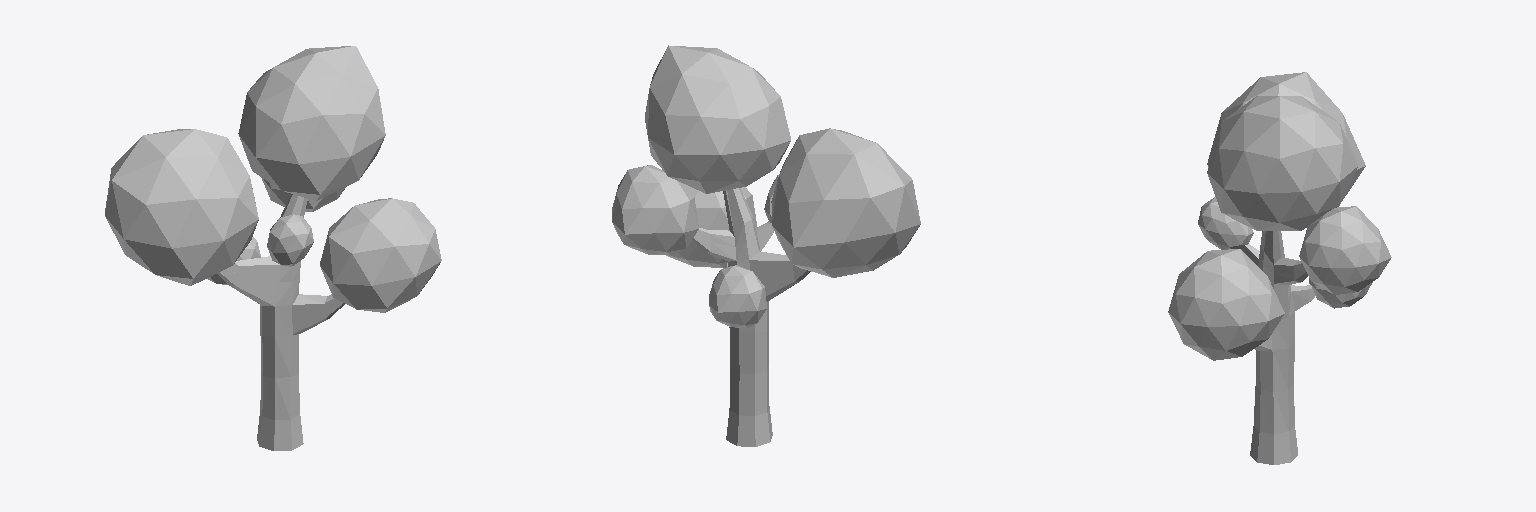
Rendered from basic_tree.obj.
3 views of the same model, side by side, from view 1: azimuth 30°, elevation 25°; view 2: azimuth 150°, elevation 25°; view 3: azimuth 270°, elevation 25° (orthographic).
Parts seen in each view (by area): view 1: Cylinder_Cylinder.001; view 2: Cylinder_Cylinder.001; view 3: Cylinder_Cylinder.001.
Boxes of the visible parts, x1,y1,x2,y2 form: Cylinder_Cylinder.001: [105, 46, 441, 450]; Cylinder_Cylinder.001: [612, 45, 920, 446]; Cylinder_Cylinder.001: [1168, 72, 1391, 464].
Size of the model in its own units: 4.16 by 5.26 by 2.83.